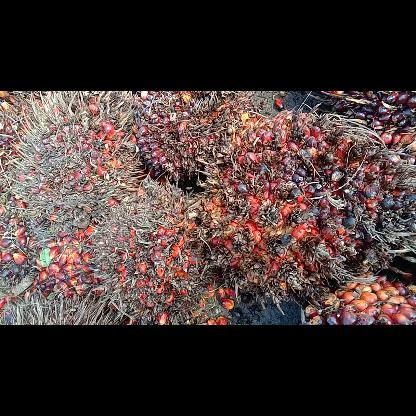Terlalu masak: (189, 107, 415, 299), (0, 91, 143, 242), (86, 176, 226, 324), (134, 90, 256, 182), (298, 268, 414, 324)
